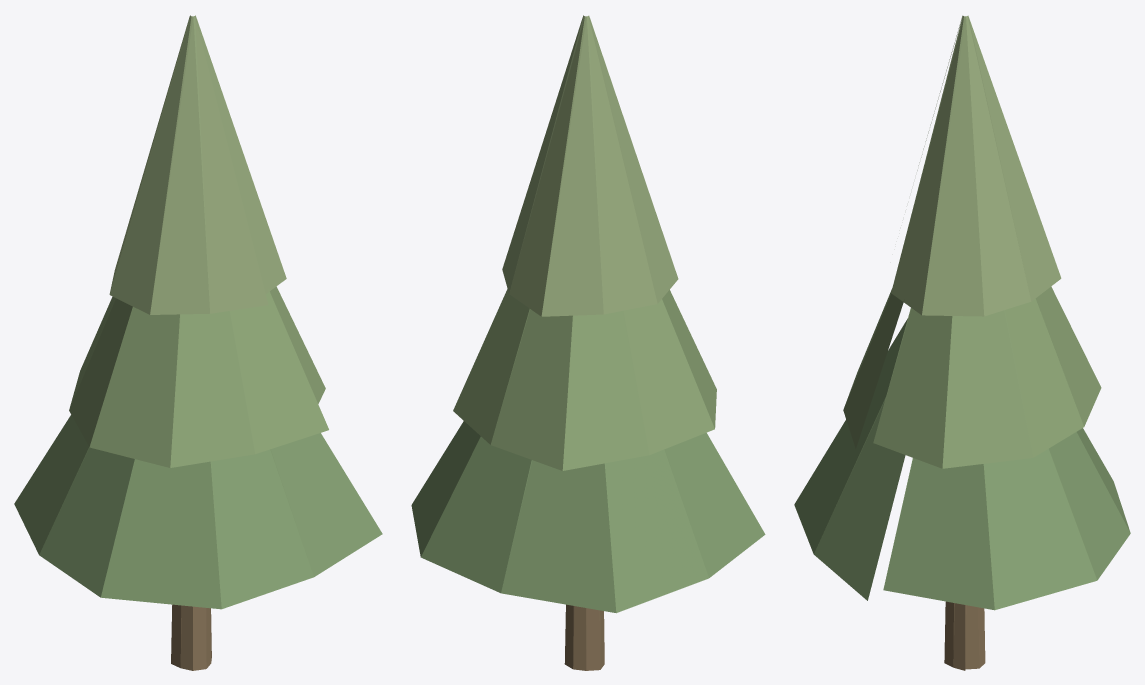
File: conifer_2.glb
3 renders of one model, left to right at view 1: azimuth 30°, elevation 25°; view 2: azimuth 150°, elevation 25°; view 3: azimuth 270°, elevation 25°, orthographic.
Size of the model in its own units: 3.04 by 6.3 by 2.97.
